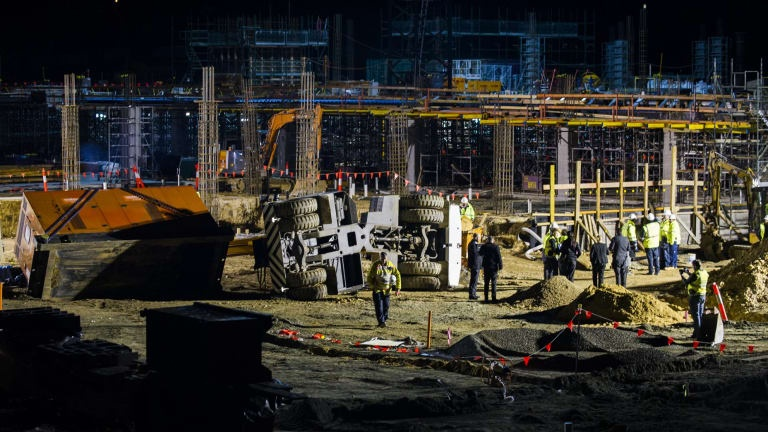none: (378, 251, 388, 263), (692, 259, 702, 271), (550, 228, 560, 238), (472, 232, 481, 242), (485, 235, 494, 245), (566, 230, 575, 240), (614, 227, 623, 236), (595, 234, 603, 243)
white: (628, 212, 637, 223), (646, 212, 655, 223), (668, 214, 677, 224), (460, 197, 468, 206)
